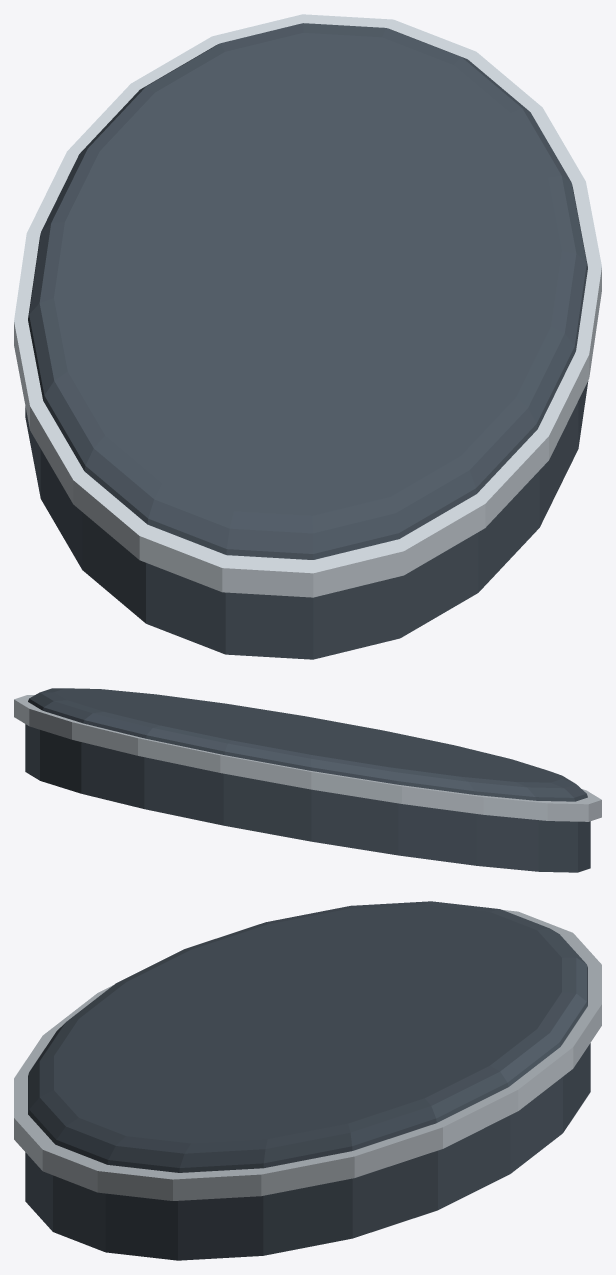
File: Plate_LatchBase.gltf
The picture shows the model from 3 angles, top to bottom: view 1: azimuth 30°, elevation 25°; view 2: azimuth 150°, elevation 25°; view 3: azimuth 270°, elevation 25°; orthographic projection. The views are drawn at different scales.
Parts seen in each view (by area): view 1: Plate_LatchBase_baked; view 2: Plate_LatchBase_baked; view 3: Plate_LatchBase_baked.
Boxes of the visible parts, box(x1,y1,x2,y2) form: Plate_LatchBase_baked: box(14, 14, 601, 659); Plate_LatchBase_baked: box(14, 688, 601, 872); Plate_LatchBase_baked: box(14, 901, 601, 1260).
Size of the model in its own units: 0.6693 by 0.347 by 0.6163.
